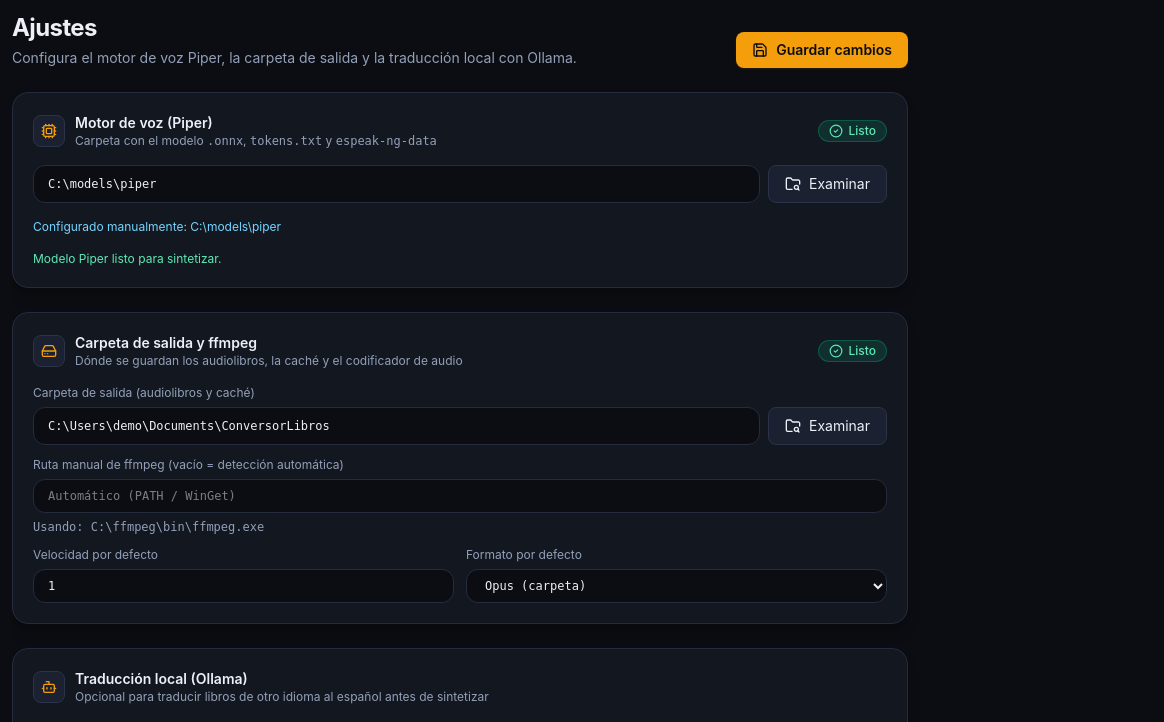
Test case: SettingsPage › Guardar persists settings and displays validation feedback
Expected: the field showing "C:\\models\\piper" is shown, x1=33 y1=165 x2=760 y2=203
Click the button "Guardar cambios" at (822, 50), box x1=736 y1=32 x2=908 y2=68
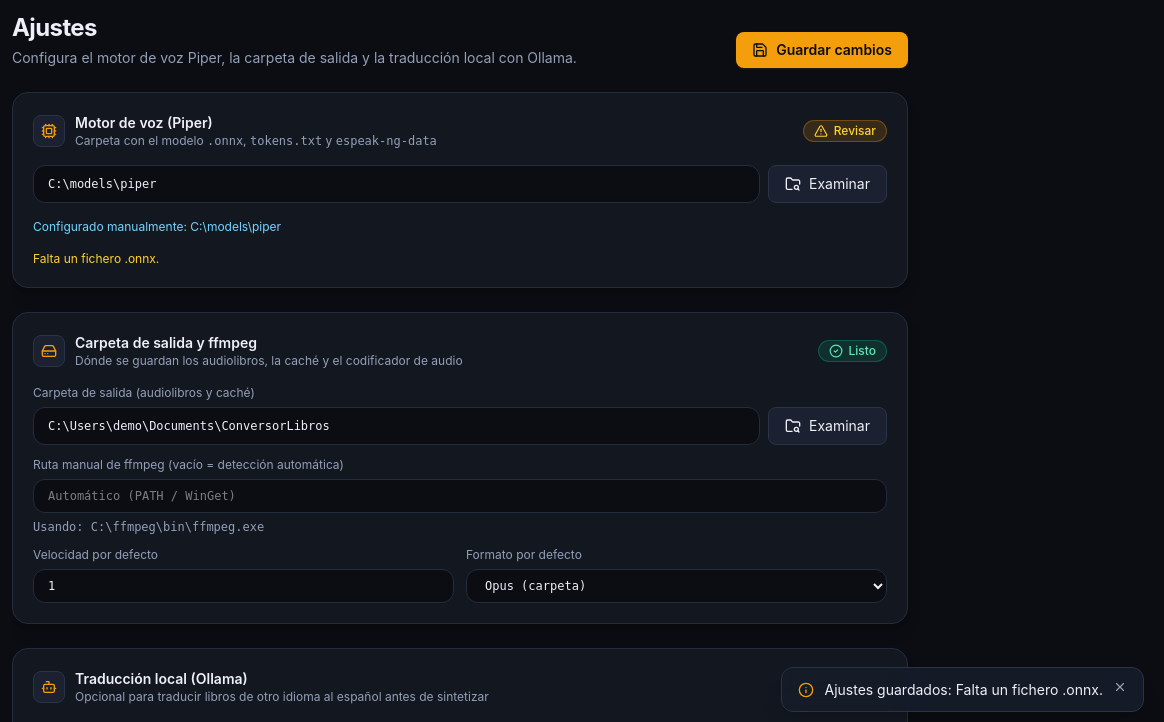
Expected: the text "Falta un fichero .onnx." is shown, x1=33 y1=251 x2=159 y2=266
